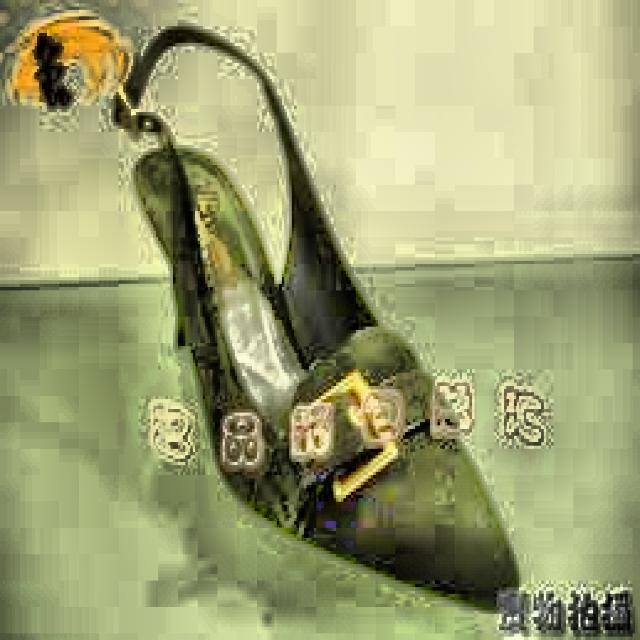shoes: (107, 25, 532, 615)
